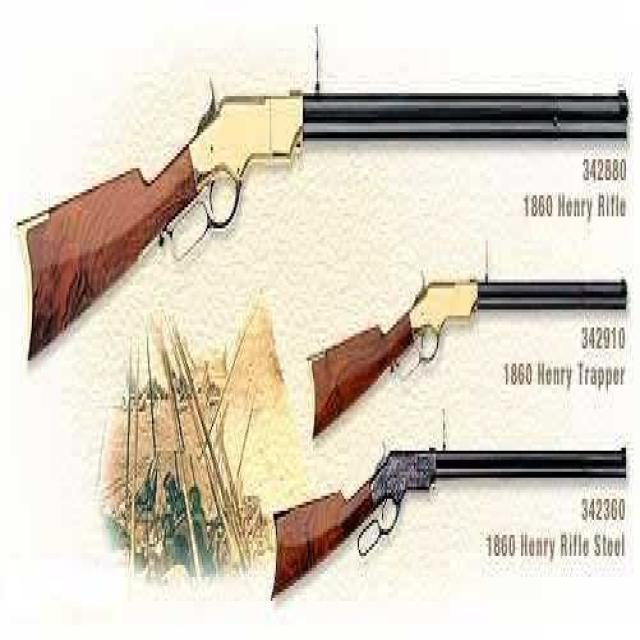heavyweapon: (19, 43, 633, 410), (297, 226, 636, 455), (267, 413, 640, 620)
